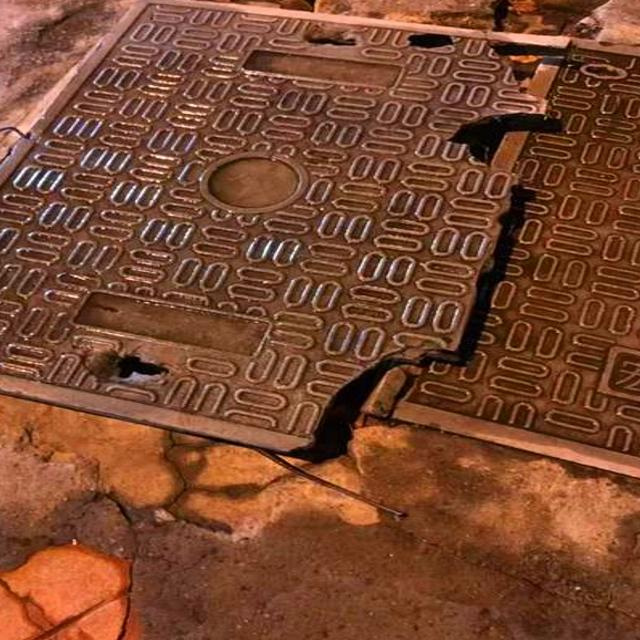broke: (0, 0, 640, 547)
